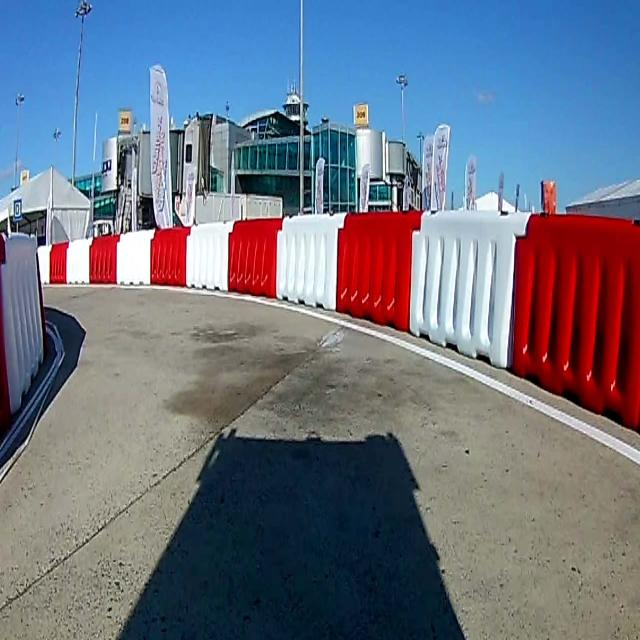durak: (12, 199, 22, 217)
